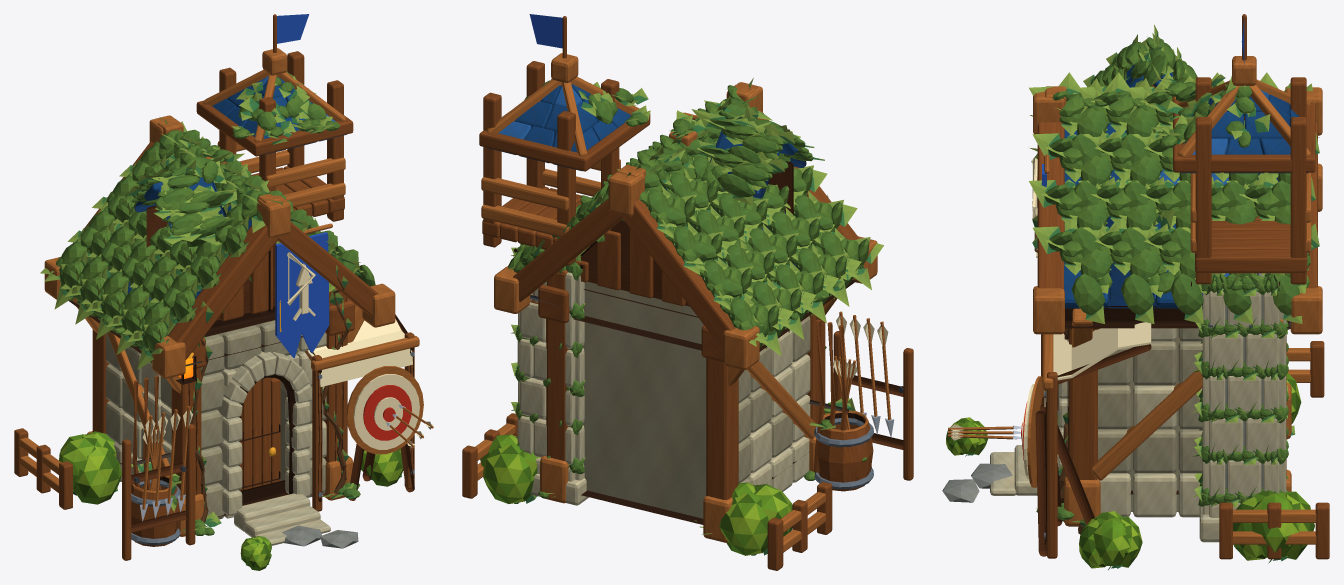
The model's file is archery_range.glb.
The picture shows the model from 3 angles, left to right: view 1: azimuth 30°, elevation 25°; view 2: azimuth 150°, elevation 25°; view 3: azimuth 270°, elevation 25°; orthographic projection. The views are drawn at different scales.
Visible parts, largest first — view 1: Cloth heraldic banner, Carved roof verge, Linen work canopy, Carved roof verge.002, Leaf cluster.004, Corner upright, Target ring.006, Corner upright.002, Target ring.005, Canopy upright, Corner upright.001, Open barrel staves.001 (+55 smaller); view 2: Cottage walls, Corner upright.001, Carved roof verge.001, Carved roof verge.003, Corner upright.003, Open barrel staves.001, Leaf cluster.007, Leaf cluster.011, Roof eave beam.002, Lookout upright.003, Lookout upright.001, Side wall diagonal (+45 smaller); view 3: Corner upright.002, Linen work canopy, Side wall diagonal.001, Lookout upright.003, Carved roof verge.002, Lookout upright.002, Lookout deck plank.004, Roof eave beam.001, Canopy upright.001, Side limestone block.003, Roof eave.001, Side limestone block.027 (+80 smaller).
Boxes of the visible parts, x1,y1,x2,y2 form: Cloth heraldic banner: [275, 232, 329, 358]; Carved roof verge: [167, 225, 279, 359]; Linen work canopy: [307, 319, 412, 386]; Carved roof verge.002: [278, 222, 377, 316]; Leaf cluster.004: [74, 447, 121, 504]; Corner upright: [171, 368, 201, 497]; Target ring.006: [353, 374, 419, 449]; Corner upright.002: [323, 288, 347, 462]; Target ring.005: [346, 366, 423, 454]; Canopy upright: [312, 355, 322, 511]; Corner upright.001: [92, 329, 109, 433]; Open barrel staves.001: [131, 485, 179, 546]; Cottage walls: [582, 282, 706, 518]; Corner upright.001: [706, 358, 738, 499]; Carved roof verge.001: [620, 199, 735, 349]; Carved roof verge.003: [513, 198, 622, 301]; Corner upright.003: [546, 270, 568, 461]; Open barrel staves.001: [814, 422, 873, 491]; Leaf cluster.007: [719, 493, 768, 555]; Leaf cluster.011: [483, 444, 533, 503]; Roof eave beam.002: [479, 133, 590, 171]; Lookout upright.003: [483, 92, 501, 247]; Lookout upright.001: [557, 110, 575, 265]; Side wall diagonal: [747, 361, 816, 438]; Corner upright.002: [1069, 329, 1097, 479]; Linen work canopy: [1044, 322, 1151, 406]; Side wall diagonal.001: [1091, 368, 1202, 480]; Lookout upright.003: [1290, 117, 1306, 284]; Carved roof verge.002: [1037, 122, 1064, 289]; Lookout upright.002: [1195, 117, 1211, 284]; Lookout deck plank.004: [1195, 249, 1307, 273]; Roof eave beam.001: [1173, 154, 1314, 172]; Canopy upright.001: [1047, 372, 1057, 558]; Side limestone block.003: [1133, 473, 1176, 517]; Roof eave.001: [1065, 306, 1290, 328]; Side limestone block.027: [1133, 341, 1176, 385].
Bounding box in the file's own units: 3.97 × 5.43 × 3.61.
46 materials, 32 textured.
